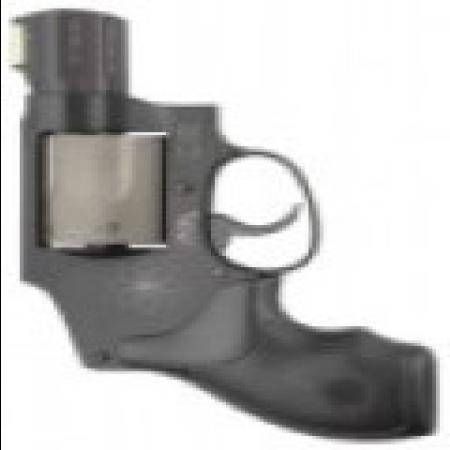Pistol: (3, 14, 432, 444)
